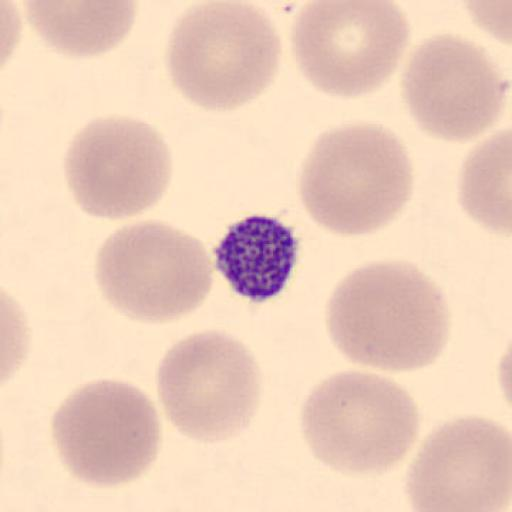Platelet: (212, 211, 303, 304)
RBC: (324, 256, 453, 374), (294, 119, 416, 239), (163, 0, 284, 114), (298, 366, 422, 476), (93, 217, 216, 326), (49, 376, 163, 490), (154, 327, 263, 446), (288, 0, 412, 100), (400, 32, 510, 143), (61, 113, 174, 221), (404, 413, 512, 511), (18, 0, 140, 61), (455, 126, 512, 234), (1, 286, 32, 388), (458, 0, 512, 44), (0, 0, 24, 71), (496, 340, 512, 408)
